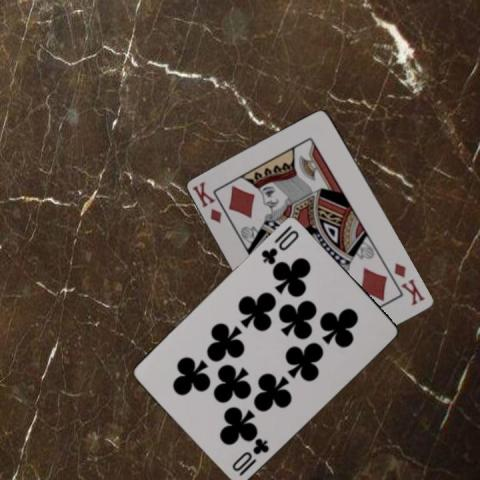10c: (258, 222, 301, 266), (228, 435, 270, 477)
Kd: (392, 259, 428, 307), (189, 178, 224, 224)
